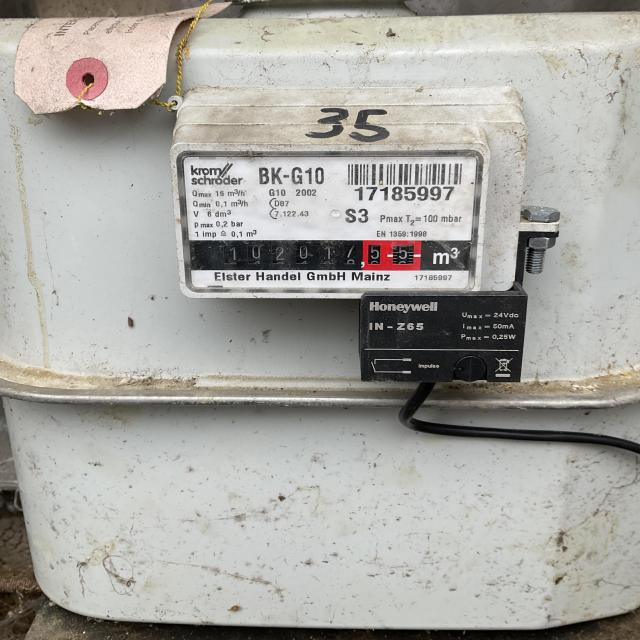gaz_meter: (176, 151, 480, 290)
indication: (213, 237, 421, 273)
